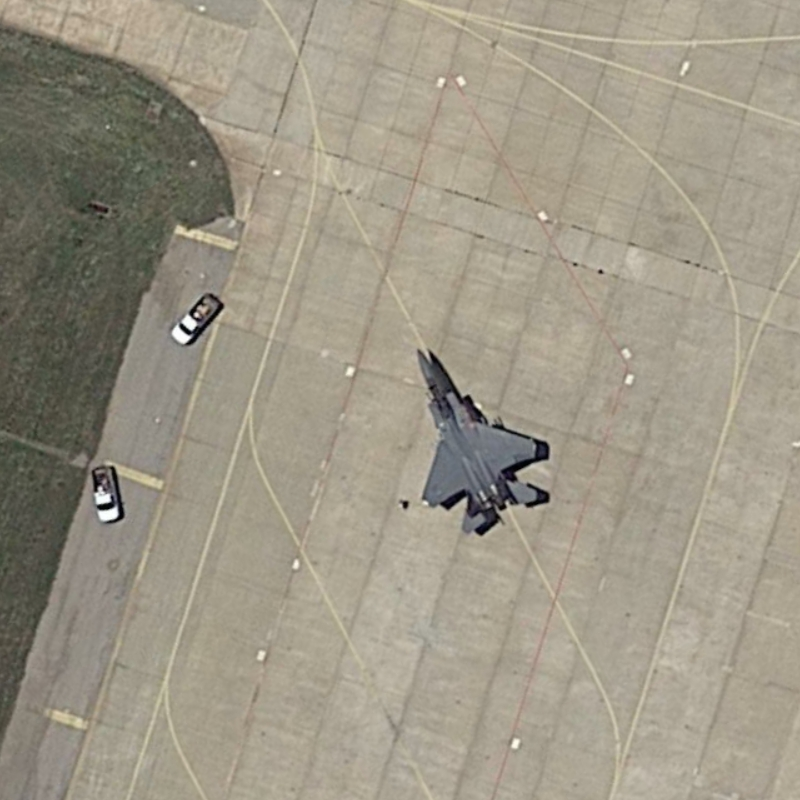A13: (408, 341, 552, 539)
